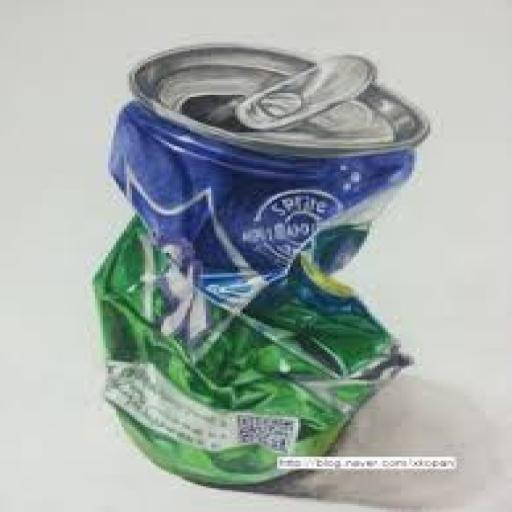can: (92, 45, 425, 484)
